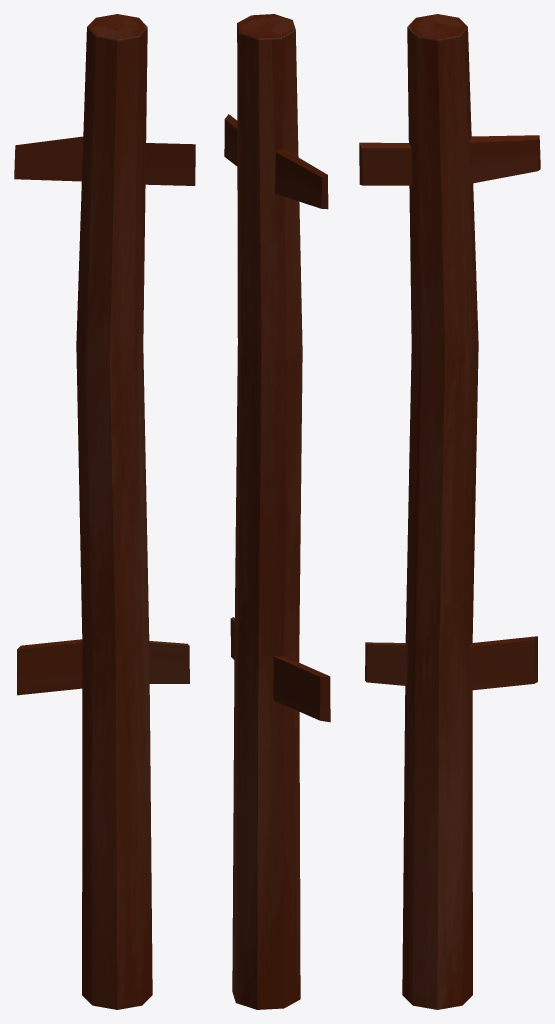
File: Wall-section-stolb.fbx
3 views of the same model, side by side, from view 1: azimuth 90°, elevation 25°; view 2: azimuth 210°, elevation 25°; view 3: azimuth 270°, elevation 25° (orthographic).
Parts seen in each view (by area): view 1: Cylinder.008; view 2: Cylinder.008; view 3: Cylinder.008.
Boxes of the visible parts, <box> form: Cylinder.008: <box>14,14,195,1009</box>; Cylinder.008: <box>224,14,330,1009</box>; Cylinder.008: <box>359,14,540,1009</box>.
Size of the model in its own units: 14.57 by 221 by 37.51.
